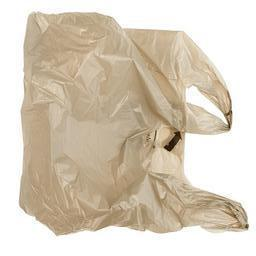plastic: (20, 13, 249, 235)
